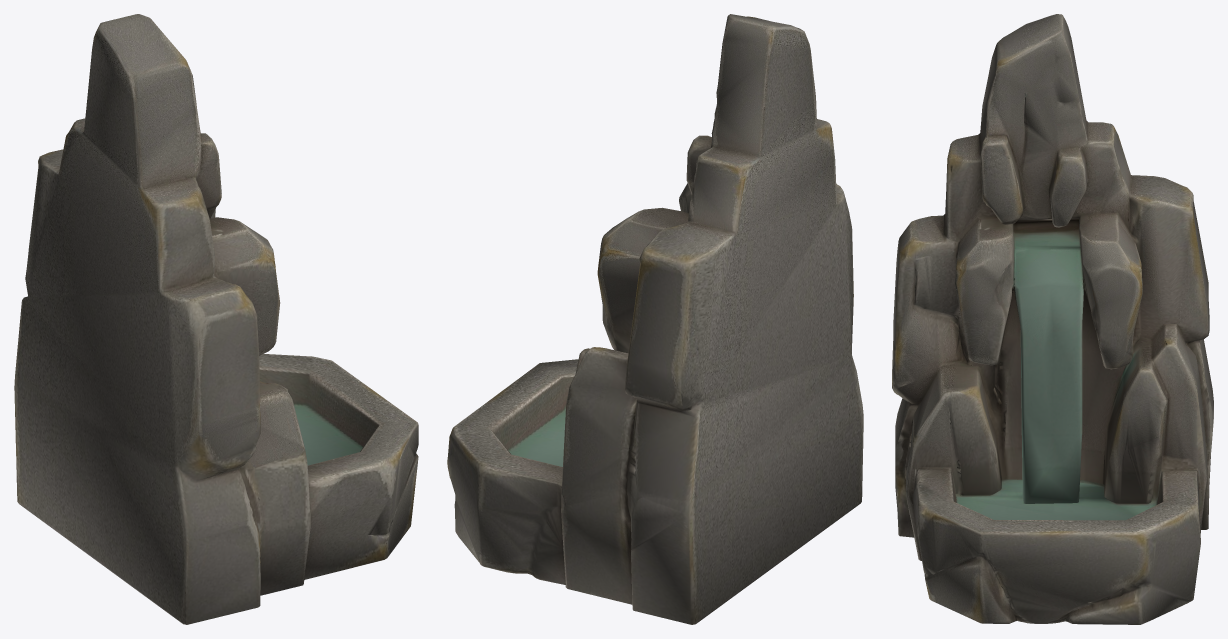
File: tripo_convert_747e8757-4ce4-4b83-8a13-2766ddf52cc4.fbx
The picture shows the model from 3 angles, left to right: view 1: azimuth 30°, elevation 25°; view 2: azimuth 150°, elevation 25°; view 3: azimuth 270°, elevation 25°; orthographic projection. The views are drawn at different scales.
Parts seen in each view (by area): view 1: tripo_node_747e8757; view 2: tripo_node_747e8757; view 3: tripo_node_747e8757.
Boxes of the visible parts, x1=… form: tripo_node_747e8757: x1=14, y1=14, x2=418, y2=624; tripo_node_747e8757: x1=447, y1=14, x2=863, y2=624; tripo_node_747e8757: x1=892, y1=14, x2=1213, y2=624.
Size of the model in its own units: 0.541 by 0.998 by 0.5918.
Materials: 1 (1 with a texture image).
